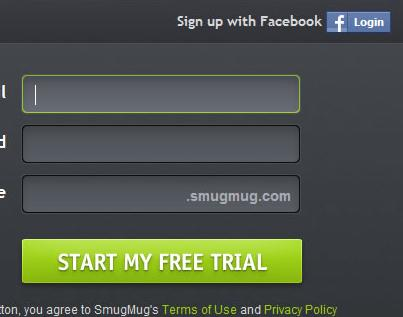button: (20, 238, 303, 284), (326, 10, 390, 33)
field: (20, 124, 301, 165), (19, 174, 302, 214), (20, 74, 301, 114)
